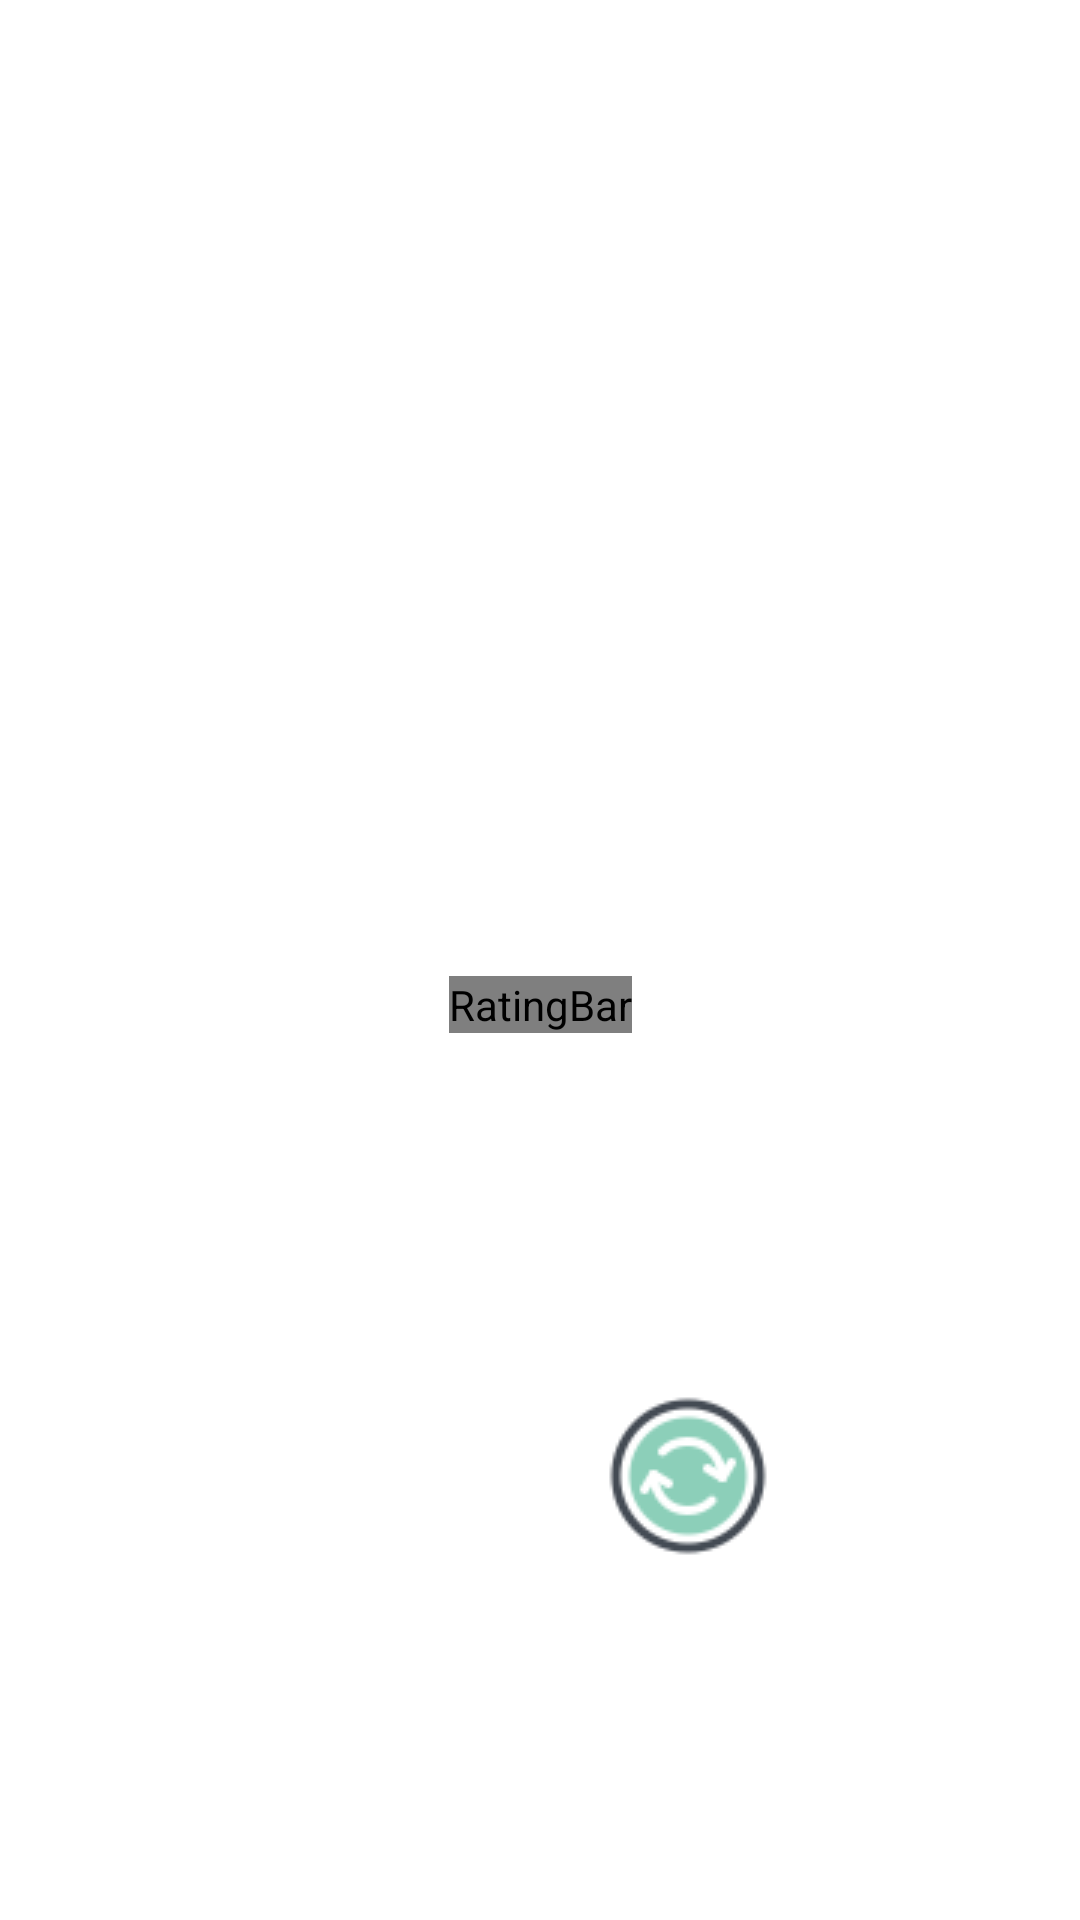

Icon click points for this 1080px x 1920px phone screenshot, format [x,y]:
Reset Count: [688,1476]
